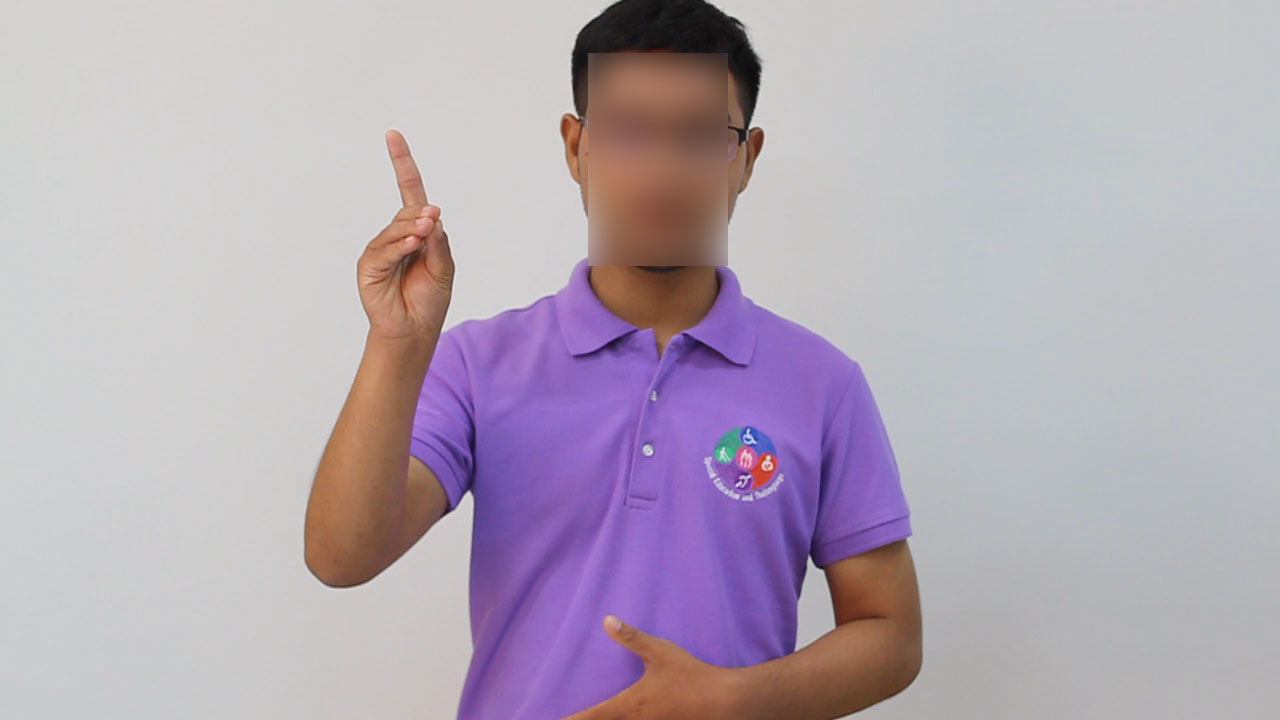dor: (338, 121, 466, 366)
